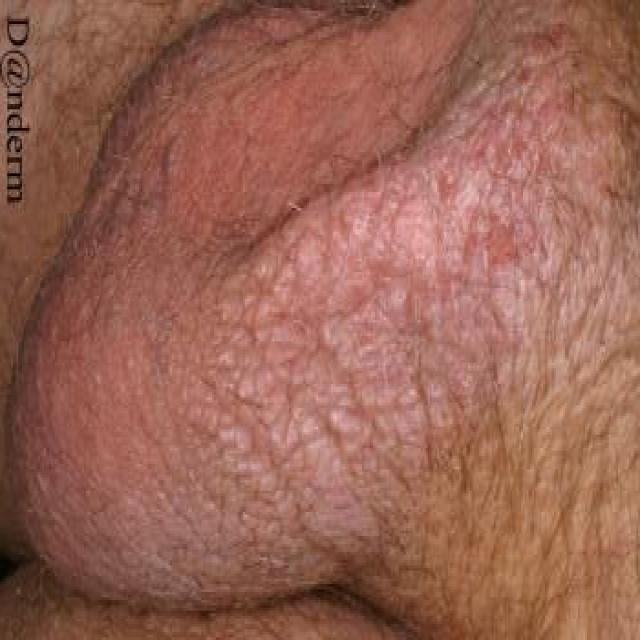Eczema: (193, 107, 552, 508)
